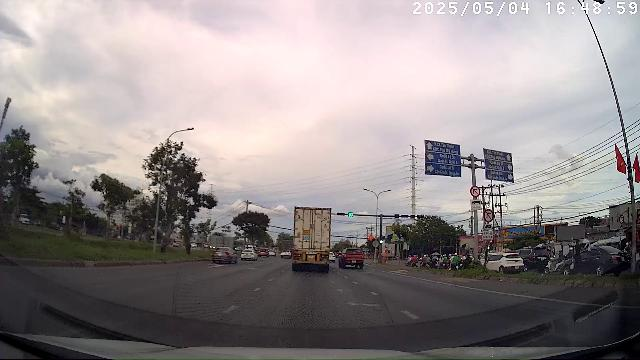123b-cam-re-phai: (484, 209, 494, 222), (470, 187, 480, 197)
